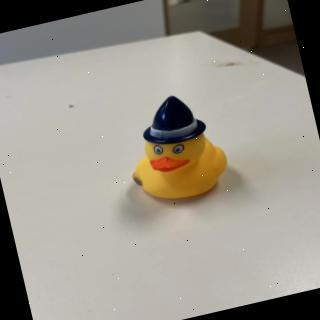duck_specialty: (115, 86, 236, 211)
